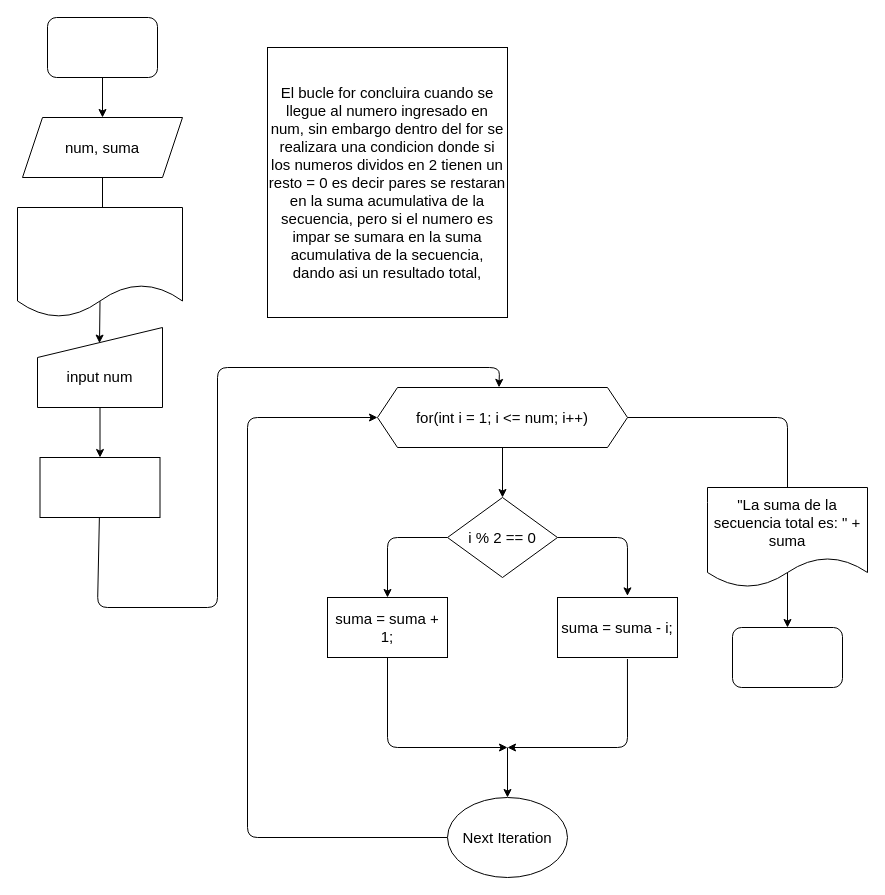
Image size: 885x895. Some labels were removed from this diagram. Each missing label, with the centre of its shape:
"Ingrese hasta que numero desea realizar la secuencia": point 99,262
End: point 787,657
Start: point 102,47
suma = 0: point 99,487
